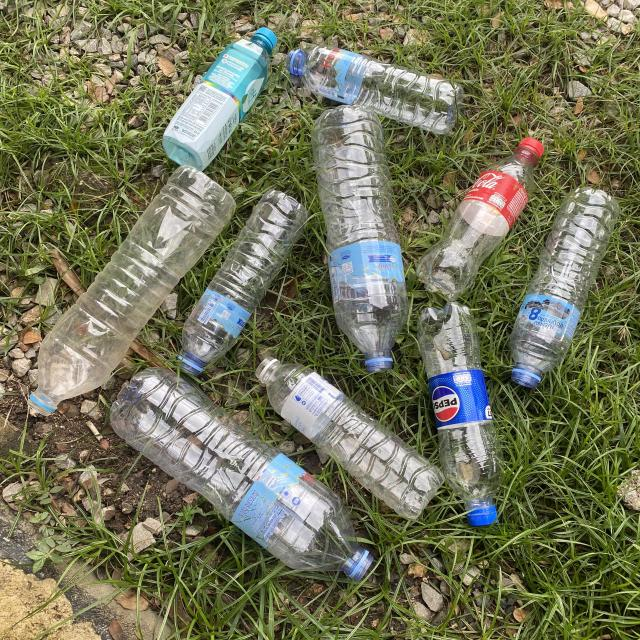plastik: (110, 369, 372, 579), (29, 166, 235, 415), (256, 359, 444, 519), (312, 105, 409, 372), (180, 190, 308, 375), (510, 188, 619, 388), (416, 138, 544, 301), (418, 302, 502, 526), (162, 28, 276, 170), (286, 45, 462, 134)
